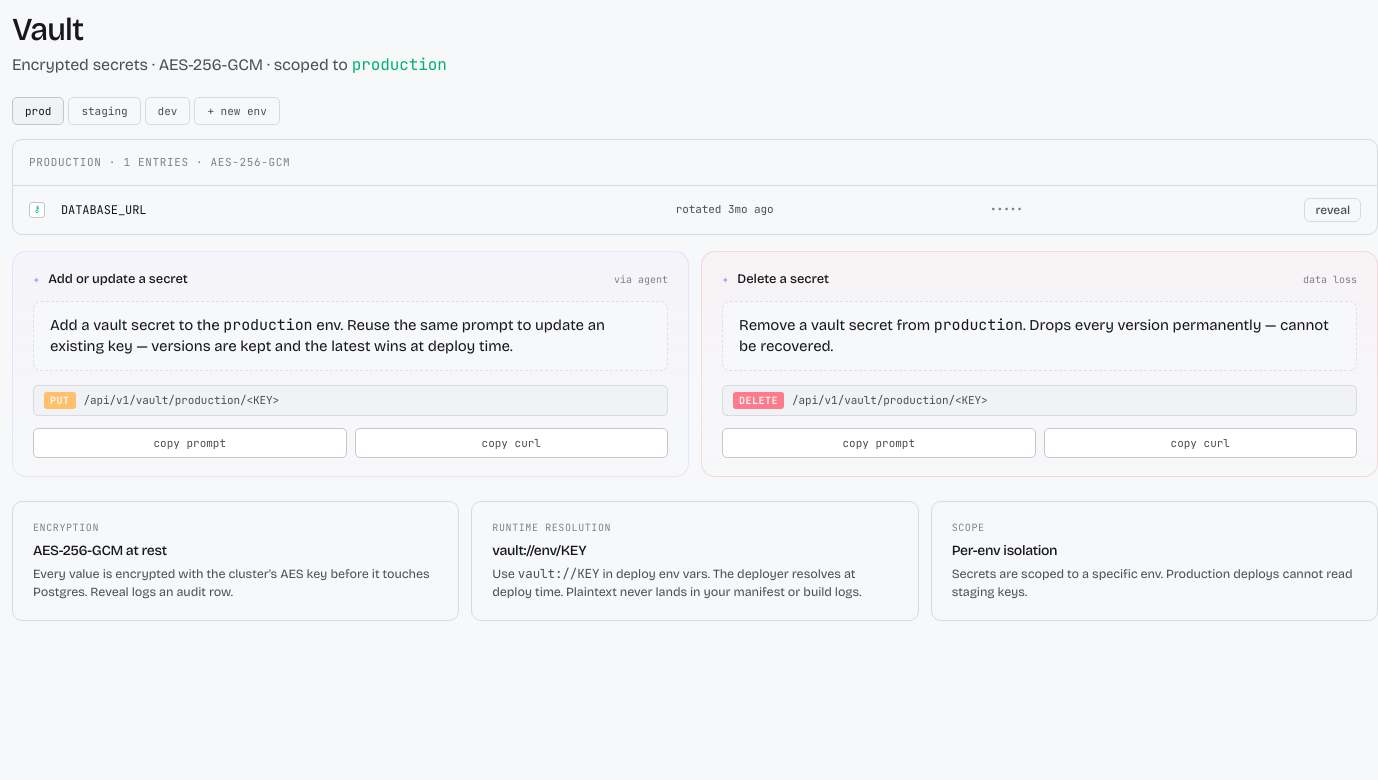
Test: VaultPage › reveals then hides a secret value
Click the button with test id "reveal-DATABASE_URL": click(1333, 210) [1304,198,1361,222]
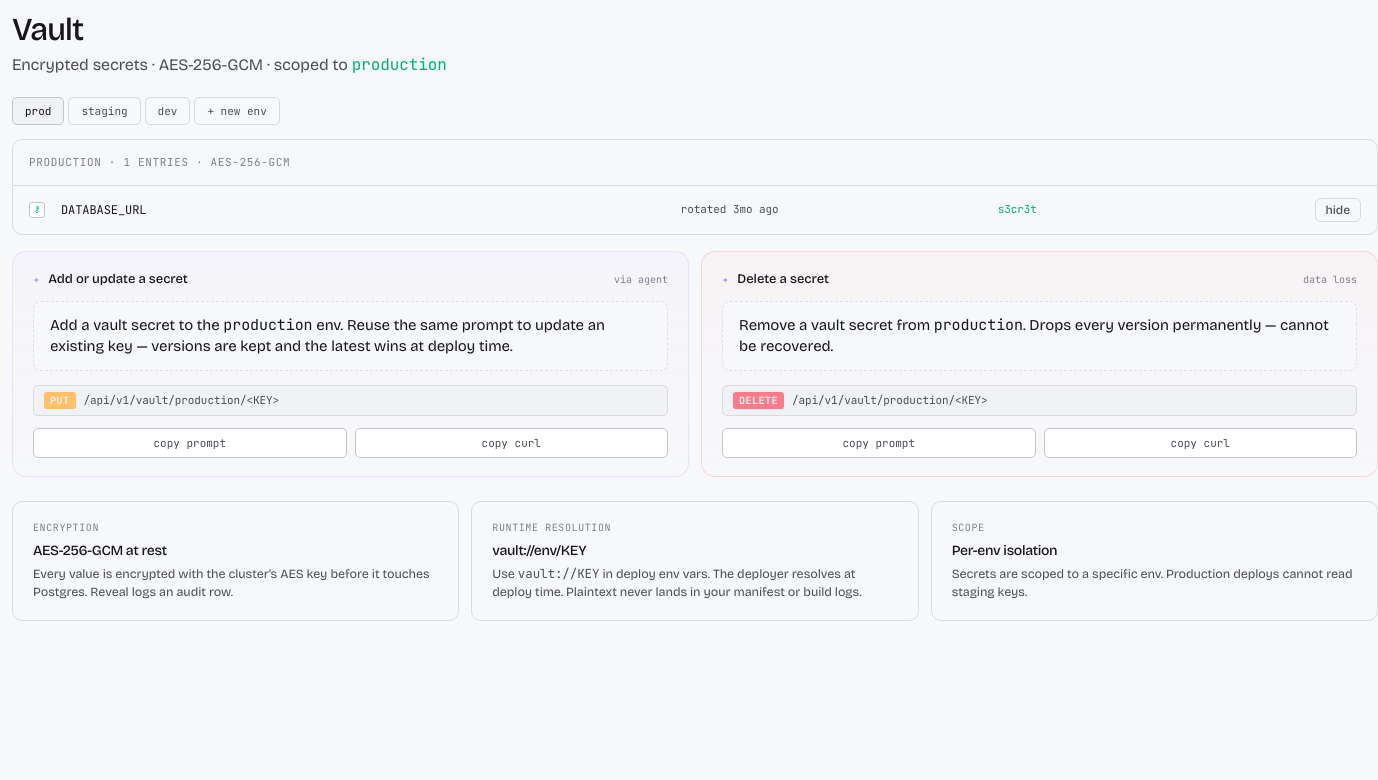
Check: the text "s3cr3t" is shown, box [998,202,1037,216]
Click the button "hide": click(1338, 210) [1314,198,1361,222]
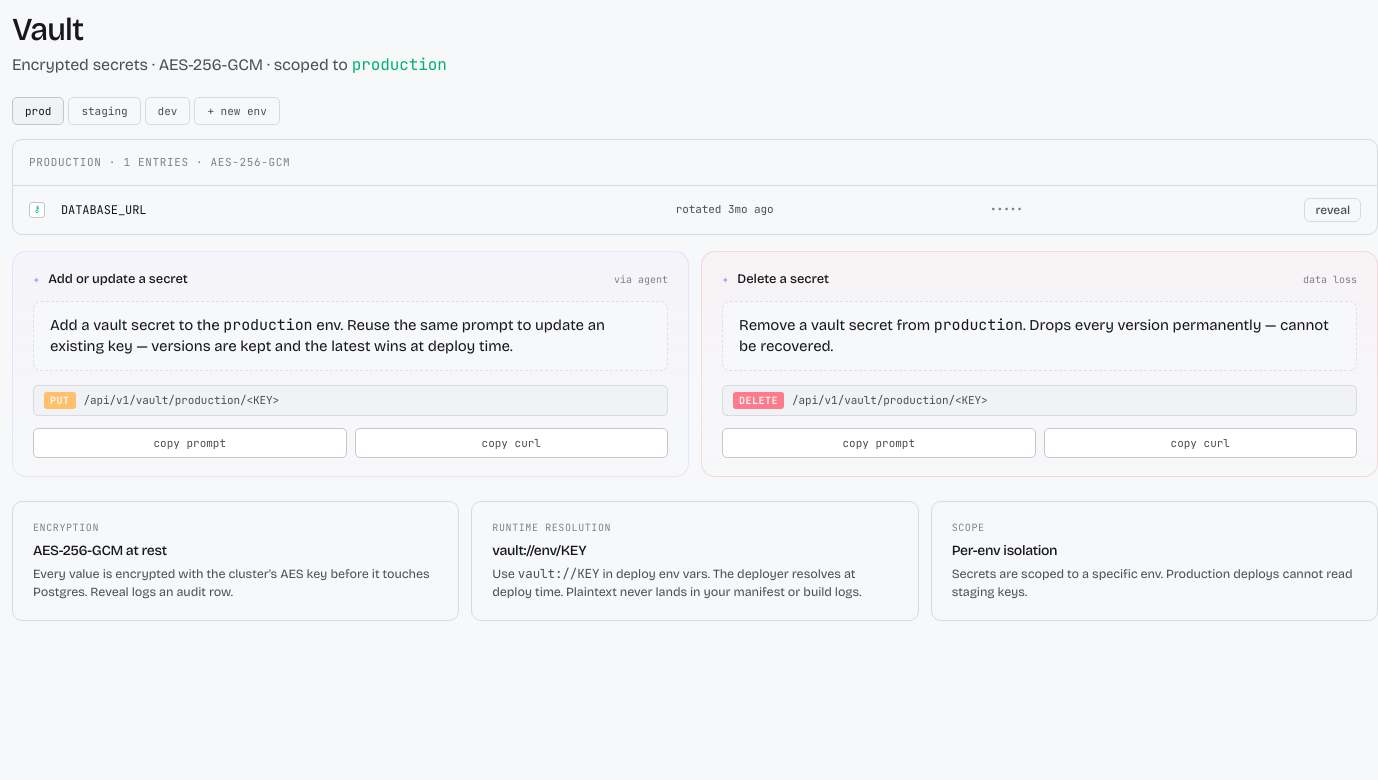
Check: the text "s3cr3t" is gone
